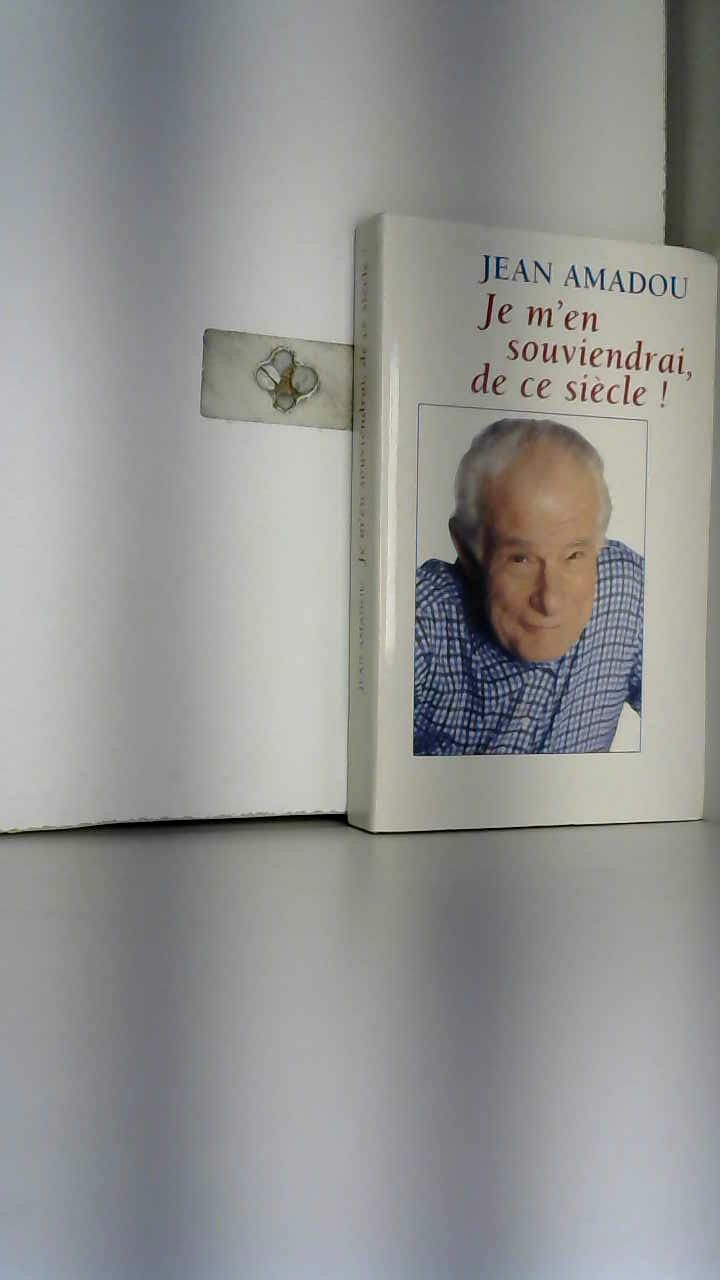book: (319, 174, 720, 868)
